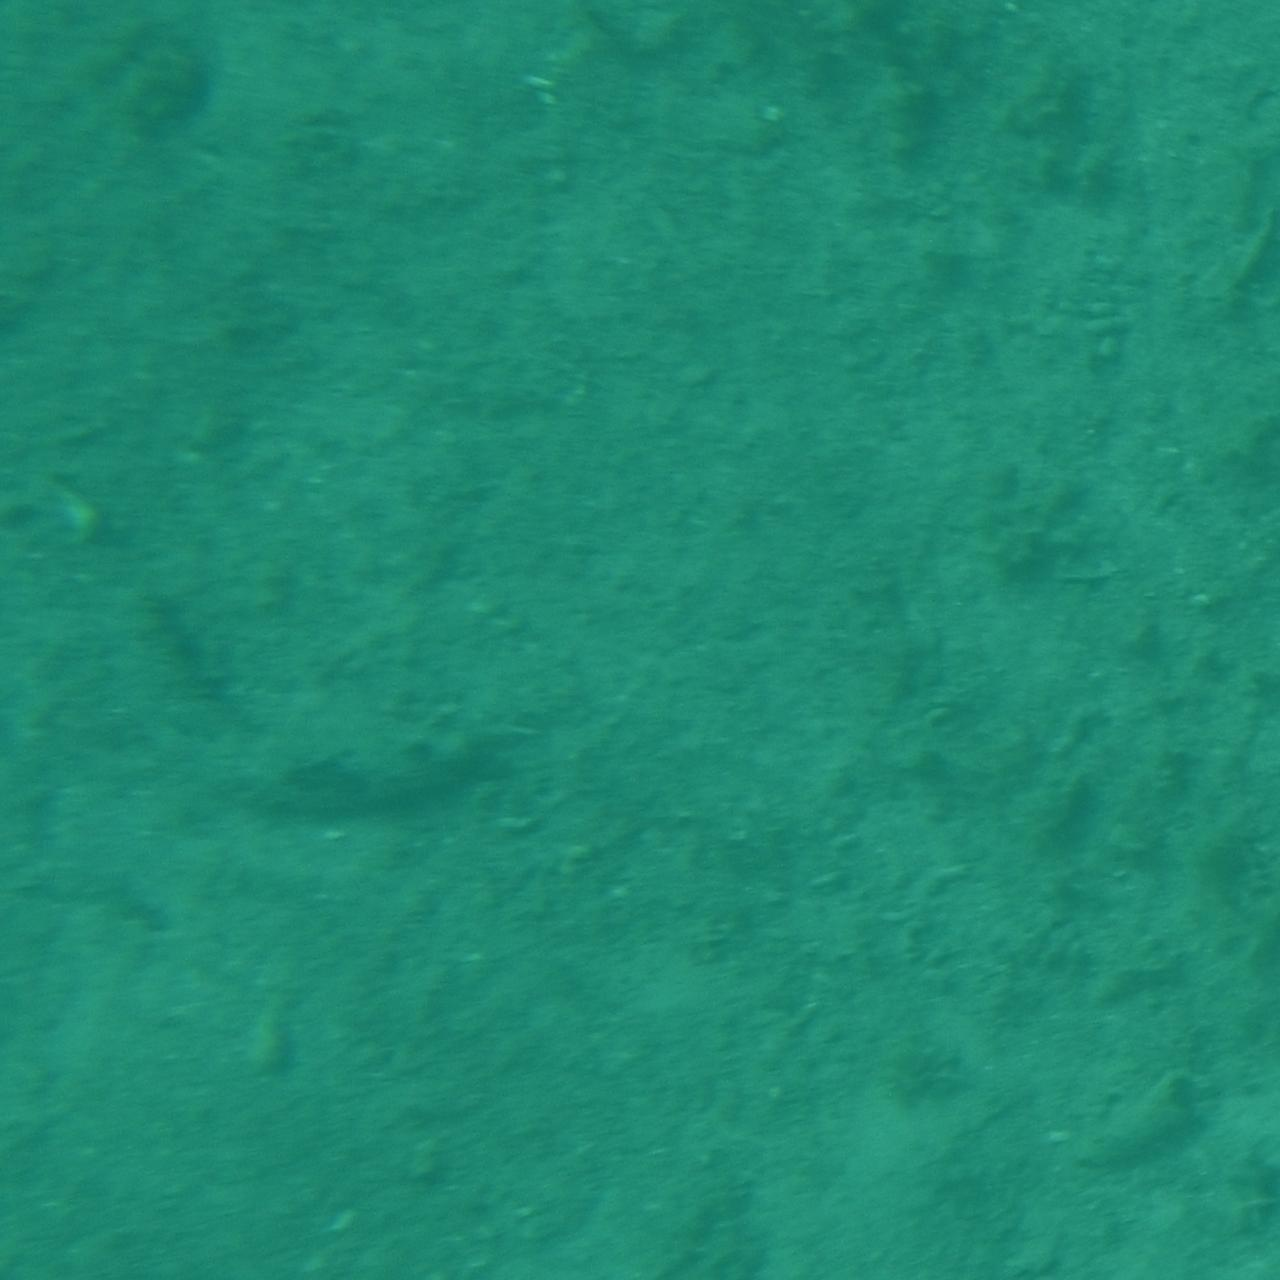Holothuria tubulosa: (0, 438, 510, 842)
